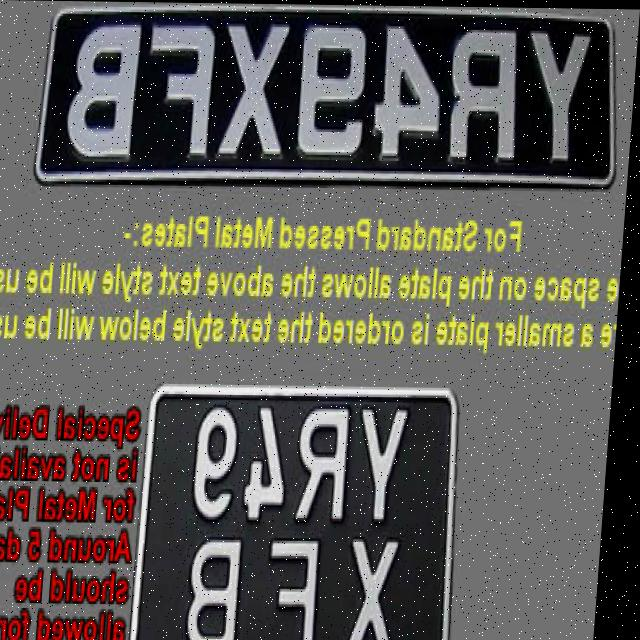plate: (41, 10, 628, 190), (137, 375, 477, 640)
